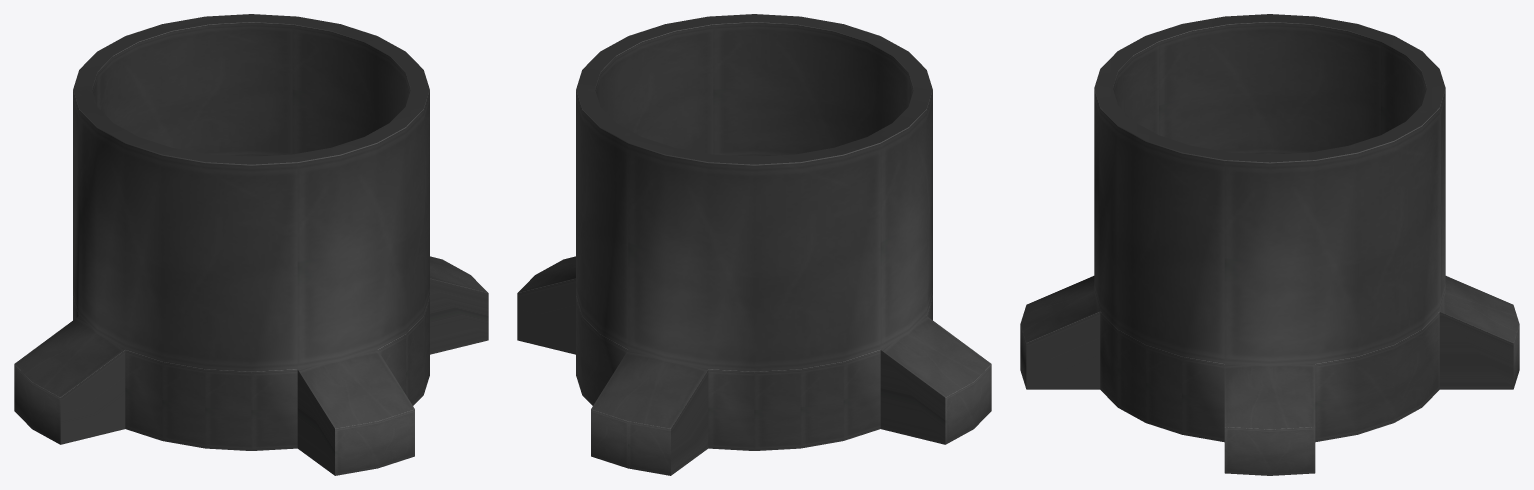
File: ProcessorSocket.FBX
3 views of the same model, side by side, from view 1: azimuth 30°, elevation 25°; view 2: azimuth 150°, elevation 25°; view 3: azimuth 270°, elevation 25° (orthographic).
Parts seen in each view (by area): view 1: MainBody; view 2: MainBody; view 3: MainBody.
Part boxes in pixels (x1,y1,x2,y2): MainBody: (14, 14, 488, 475); MainBody: (517, 14, 991, 475); MainBody: (1020, 14, 1519, 475).
Size of what is drawn, in the model's own units: 0.4607 by 0.2874 by 0.4607.
